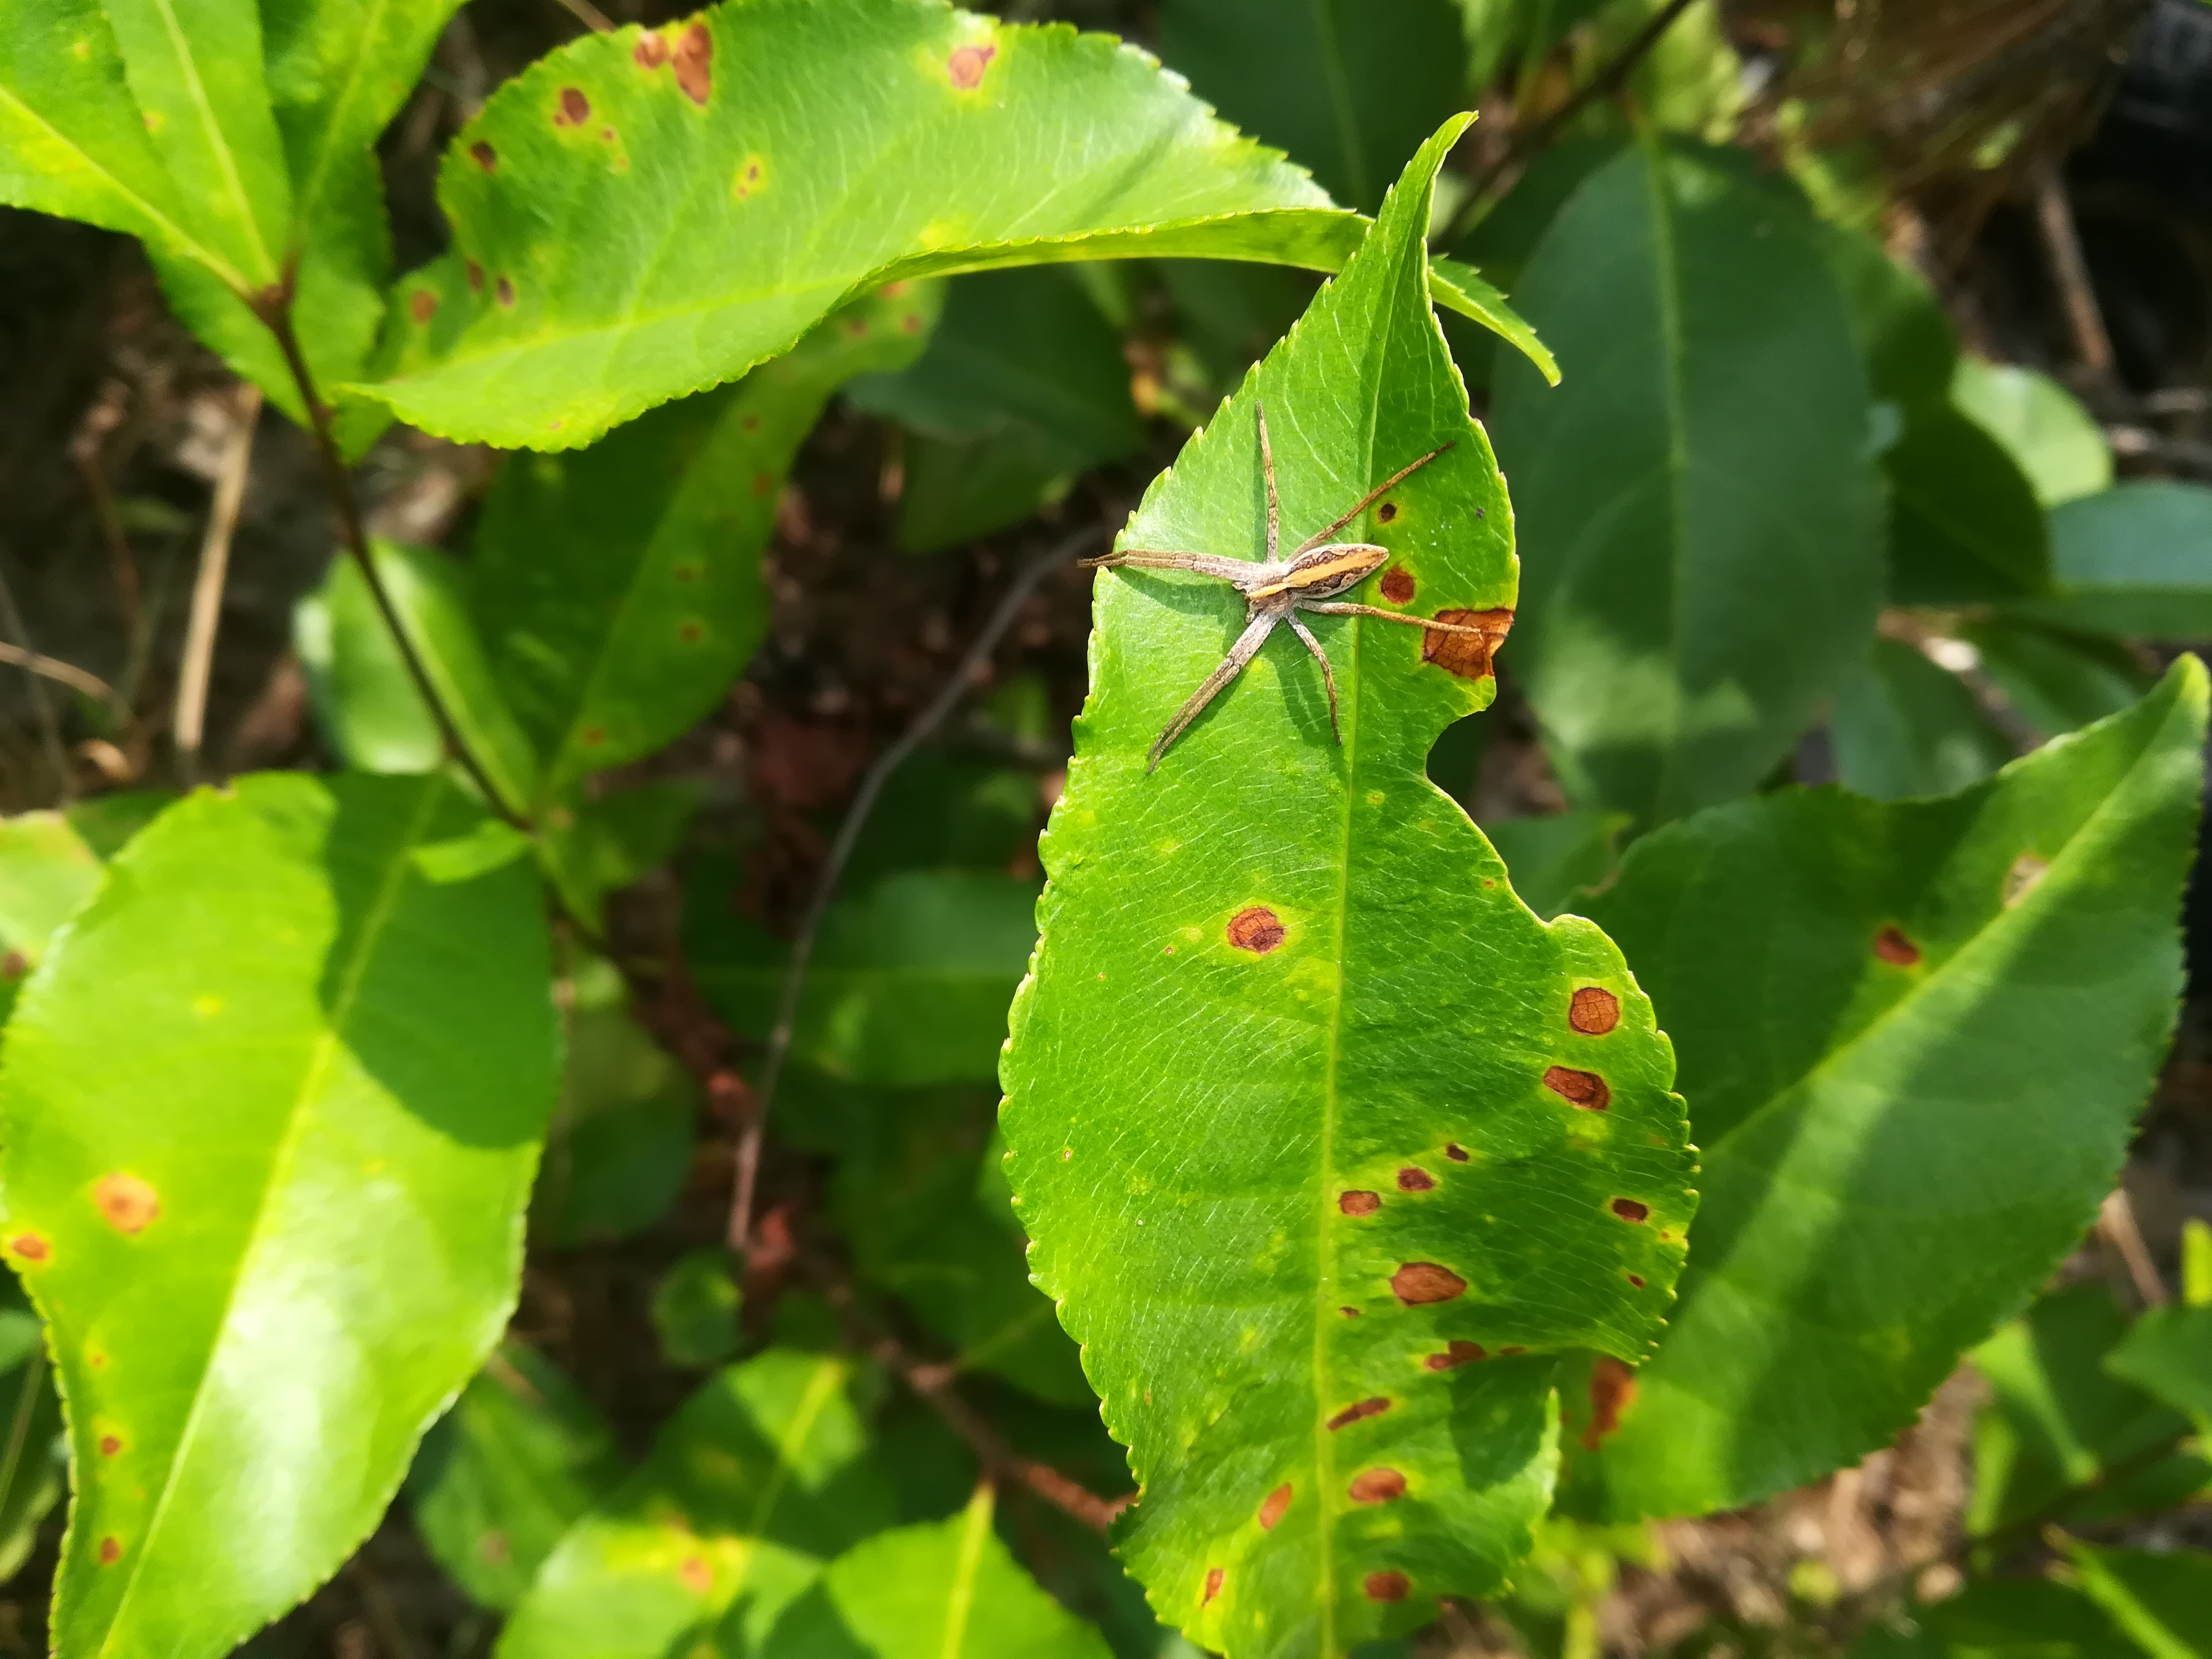spider: (1064, 376, 1526, 809)
